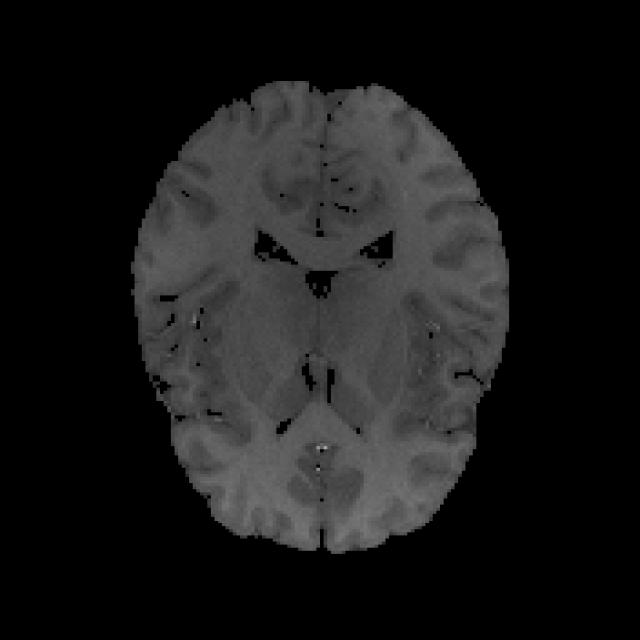CONTROL: (127, 74, 509, 551)
